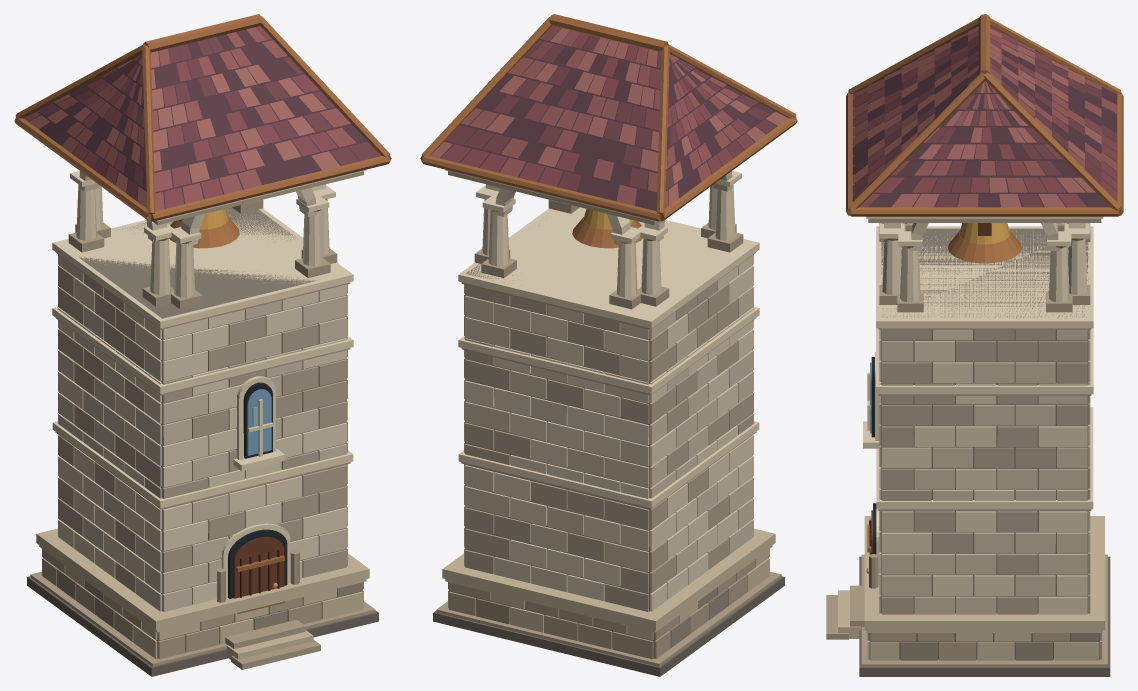
File: watch-nivel-6.glb
3 renders of one model, left to right at view 1: azimuth 30°, elevation 25°; view 2: azimuth 150°, elevation 25°; view 3: azimuth 270°, elevation 25°, orthographic.
Visible parts, largest first — view 1: Vigia 06 #e1d2b8, Vigia 06 #e6d7ba, Vigia 06 #b8a993, Vigia 06 #d2c4ad, Vigia 06 #593b44, Vigia 06 #b4a38a, Vigia 06 #a76e42, Vigia 06 #cebea0, Vigia 06 #897e6f, Vigia 06 #9e645f, Vigia 06 #8f5655, Vigia 06 #824a50 (+6 smaller); view 2: Vigia 06 #e1d2b8, Vigia 06 #e6d7ba, Vigia 06 #b8a993, Vigia 06 #d2c4ad, Vigia 06 #593b44, Vigia 06 #b4a38a, Vigia 06 #a76e42, Vigia 06 #cebea0, Vigia 06 #8f5655, Vigia 06 #70444a, Vigia 06 #9e645f, Vigia 06 #824a50 (+3 smaller); view 3: Vigia 06 #e6d7ba, Vigia 06 #d2c4ad, Vigia 06 #b8a993, Vigia 06 #e1d2b8, Vigia 06 #593b44, Vigia 06 #a76e42, Vigia 06 #897e6f, Vigia 06 #cebea0, Vigia 06 #b4a38a, Vigia 06 #9e645f, Vigia 06 #70444a, Vigia 06 #824a50 (+5 smaller).
Part boxes in pixels (<box>): Vigia 06 #e1d2b8: <box>58,171,347,604</box>; Vigia 06 #e6d7ba: <box>52,169,366,598</box>; Vigia 06 #b8a993: <box>58,265,347,593</box>; Vigia 06 #d2c4ad: <box>58,172,347,611</box>; Vigia 06 #593b44: <box>28,28,367,208</box>; Vigia 06 #b4a38a: <box>30,171,375,669</box>; Vigia 06 #a76e42: <box>14,14,391,614</box>; Vigia 06 #cebea0: <box>36,528,369,659</box>; Vigia 06 #897e6f: <box>79,207,346,611</box>; Vigia 06 #9e645f: <box>28,51,339,208</box>; Vigia 06 #8f5655: <box>23,27,356,210</box>; Vigia 06 #824a50: <box>72,26,337,208</box>; Vigia 06 #e1d2b8: <box>464,172,753,611</box>; Vigia 06 #e6d7ba: <box>445,169,759,508</box>; Vigia 06 #b8a993: <box>464,281,753,611</box>; Vigia 06 #d2c4ad: <box>464,171,753,592</box>; Vigia 06 #593b44: <box>440,28,777,211</box>; Vigia 06 #b4a38a: <box>436,171,781,666</box>; Vigia 06 #a76e42: <box>420,14,797,248</box>; Vigia 06 #cebea0: <box>442,528,775,640</box>; Vigia 06 #8f5655: <box>460,30,740,208</box>; Vigia 06 #70444a: <box>444,35,776,191</box>; Vigia 06 #9e645f: <box>430,28,788,205</box>; Vigia 06 #824a50: <box>440,26,754,186</box>; Vigia 06 #e6d7ba: <box>863,216,1103,584</box>; Vigia 06 #d2c4ad: <box>879,223,1090,614</box>; Vigia 06 #b8a993: <box>879,329,1090,614</box>; Vigia 06 #e1d2b8: <box>879,223,1090,614</box>; Vigia 06 #593b44: <box>852,28,1116,207</box>; Vigia 06 #a76e42: <box>846,14,1123,552</box>; Vigia 06 #897e6f: <box>881,228,1088,613</box>; Vigia 06 #cebea0: <box>838,516,1104,660</box>; Vigia 06 #b4a38a: <box>826,219,1107,666</box>; Vigia 06 #9e645f: <box>852,26,1116,207</box>; Vigia 06 #70444a: <box>852,26,1116,207</box>; Vigia 06 #824a50: <box>852,32,1116,207</box>.
Size of the model in its own units: 4.38 by 9.83 by 4.57.
